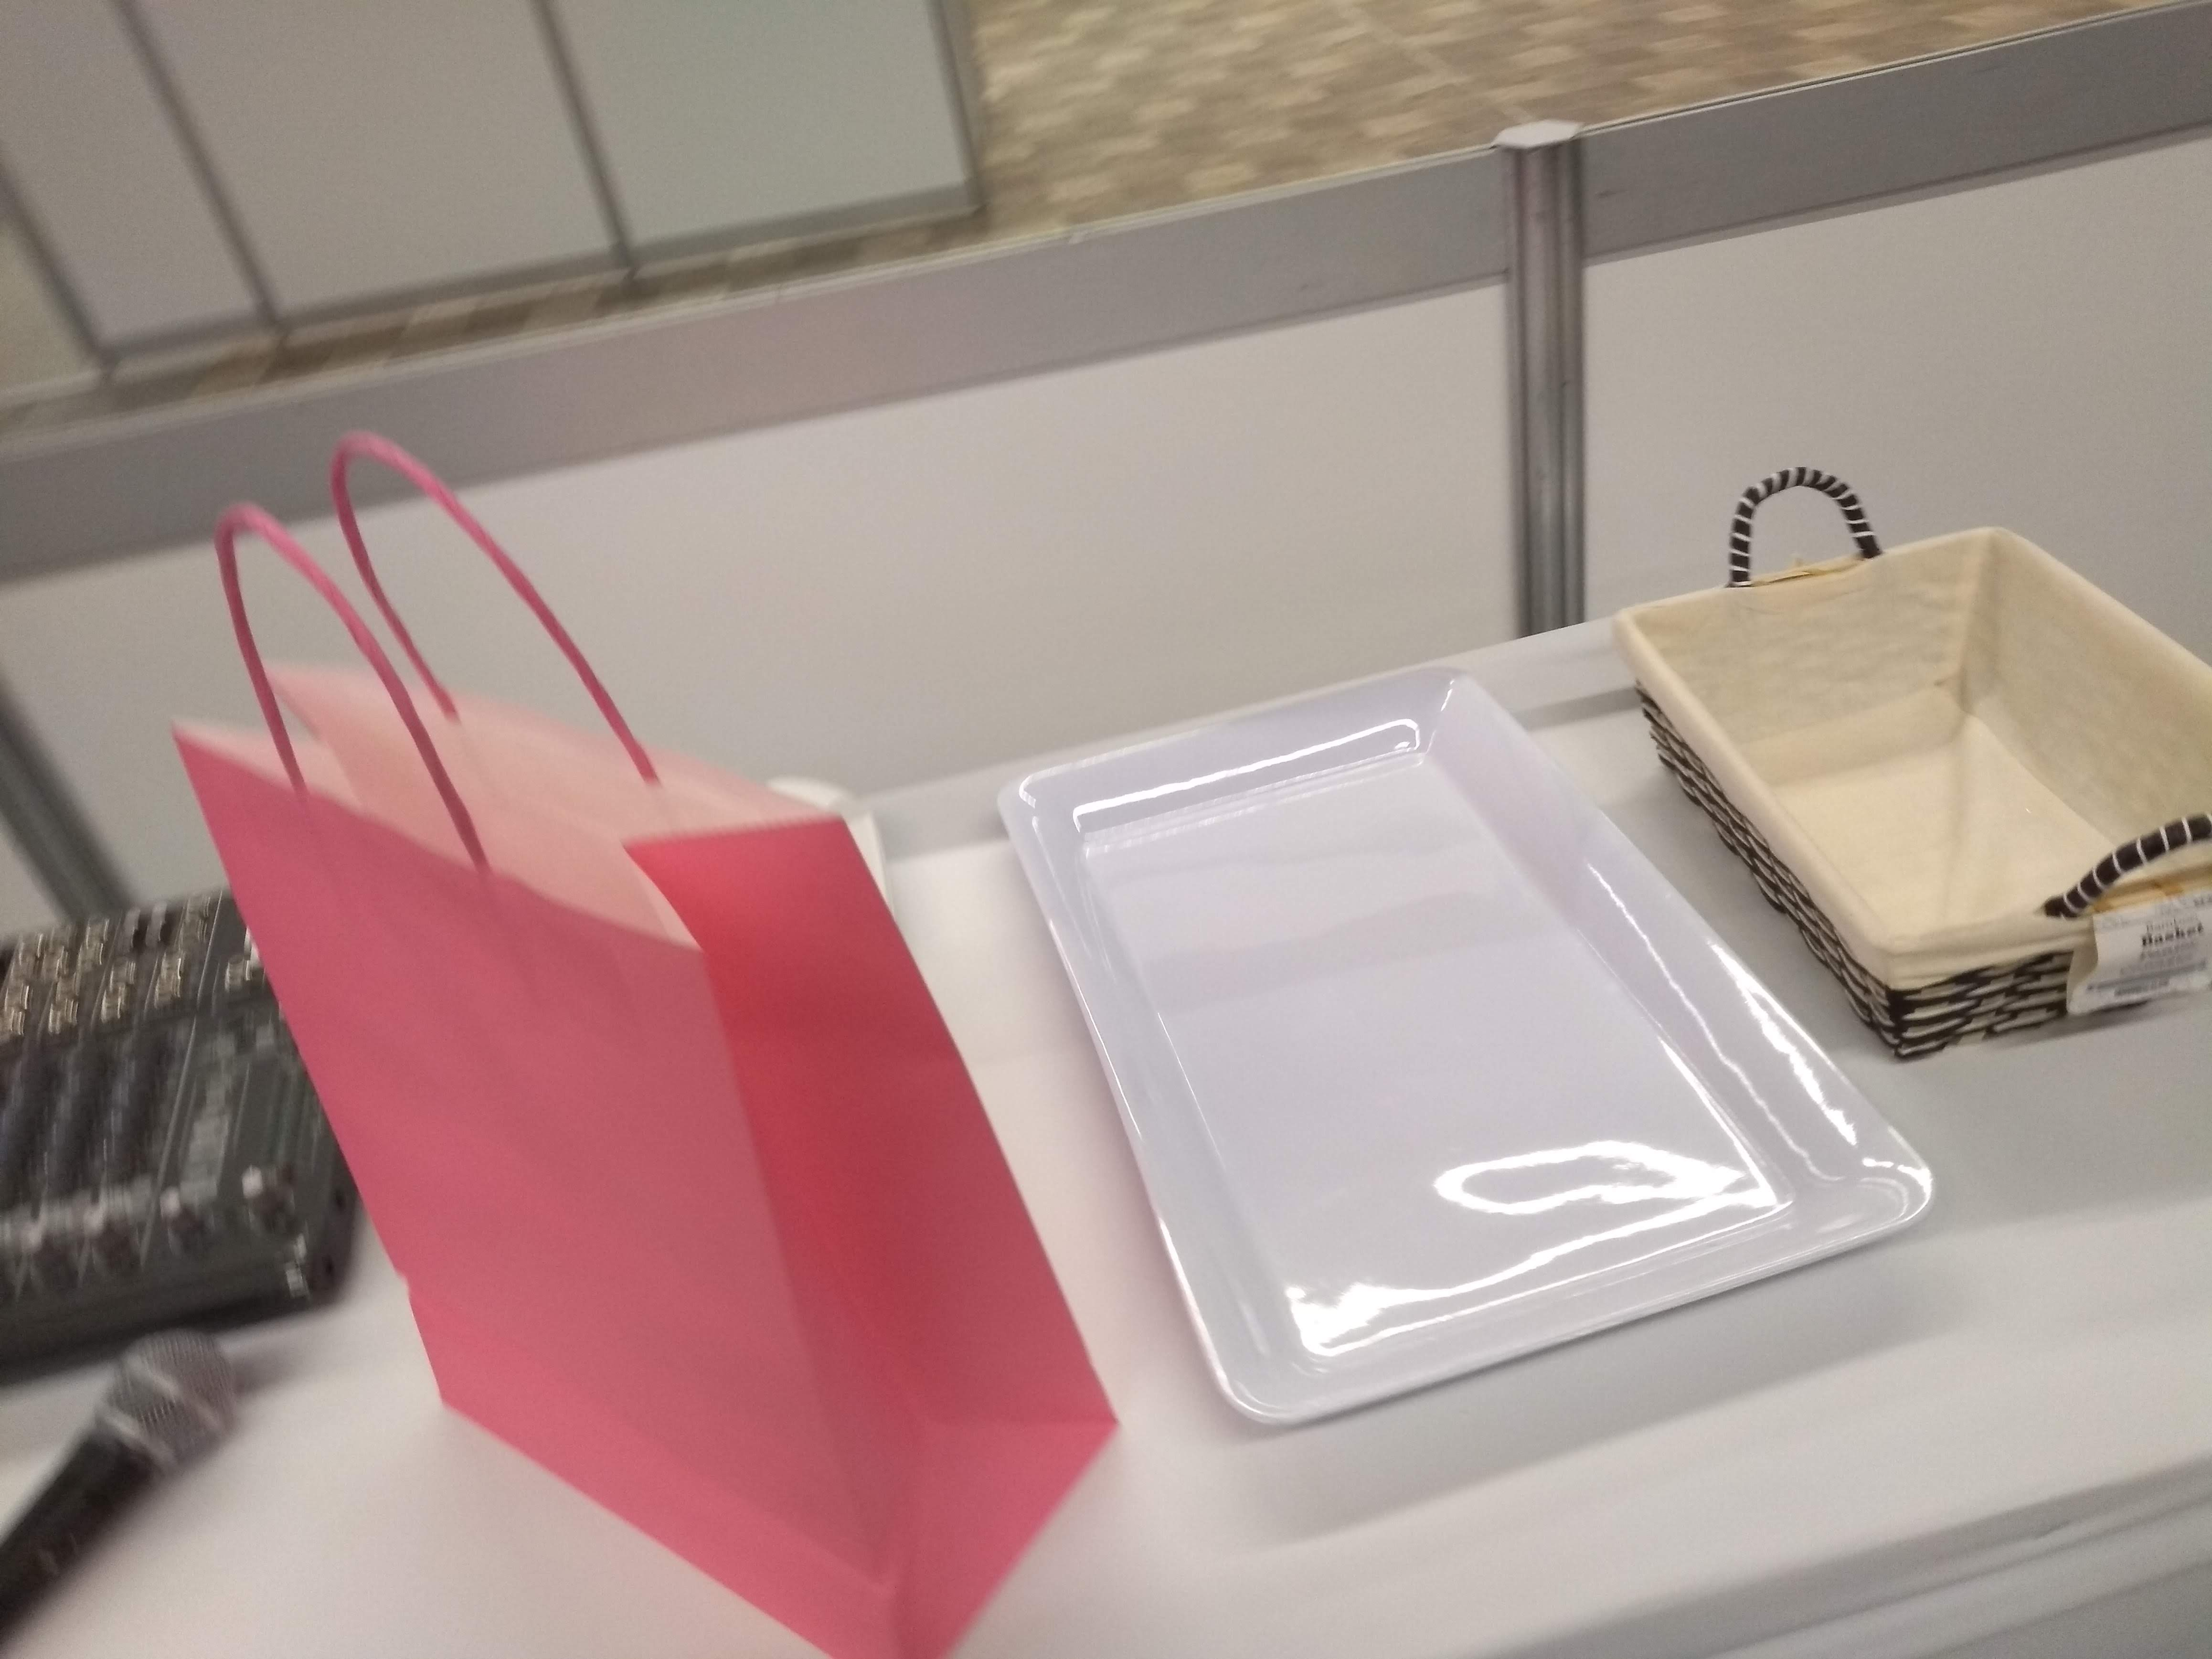basket: (1620, 450, 2212, 1042)
help_me_carry_opl: (174, 427, 1129, 1650)
tray: (989, 659, 1944, 1439)
